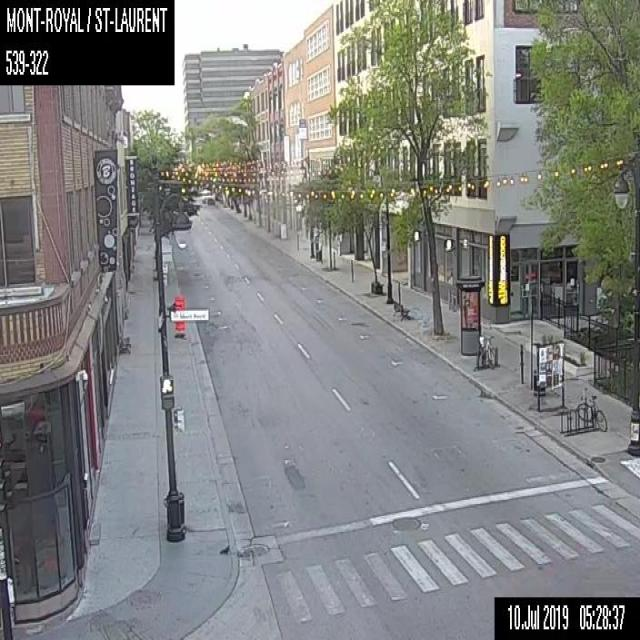construction: (174, 294, 184, 338)
vehicle: (207, 196, 214, 203)
